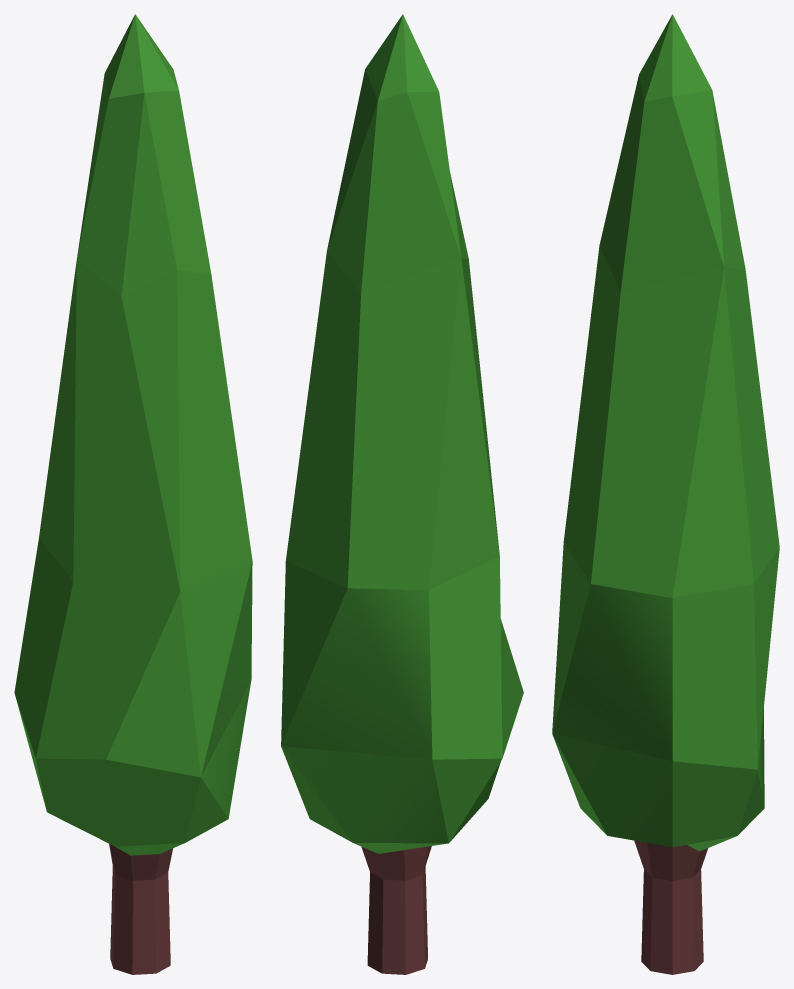
The model's file is SM_pine_tree2.fbx.
The picture shows the model from 3 angles, left to right: view 1: azimuth 30°, elevation 25°; view 2: azimuth 150°, elevation 25°; view 3: azimuth 270°, elevation 25°; orthographic projection.
Visible parts, largest first — view 1: SM_Env_Tree_03; view 2: SM_Env_Tree_03; view 3: SM_Env_Tree_03.
Part boxes in pixels (left/top/right/bottom): SM_Env_Tree_03: left=14, top=14, right=252, bottom=974; SM_Env_Tree_03: left=281, top=14, right=523, bottom=974; SM_Env_Tree_03: left=552, top=14, right=779, bottom=974.
Bounding box in the file's own units: 99.24 × 417 × 91.12.
